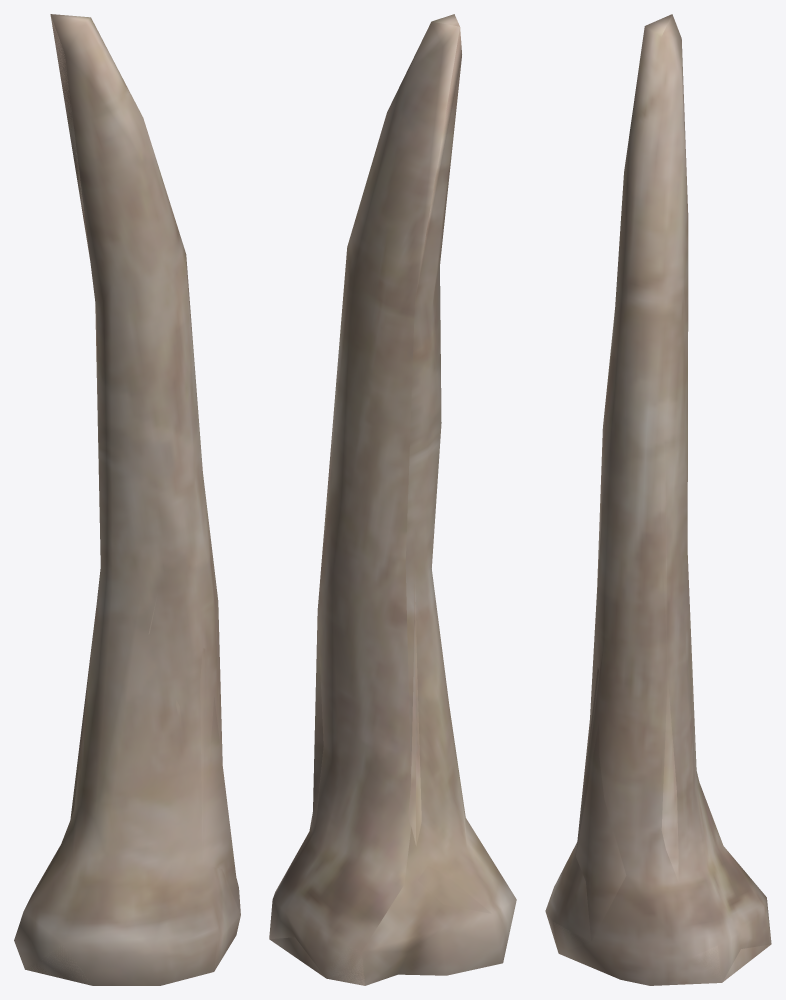
File: Stone_Thorn1.FBX
3 views of the same model, side by side, from view 1: azimuth 30°, elevation 25°; view 2: azimuth 150°, elevation 25°; view 3: azimuth 270°, elevation 25° (orthographic). The views are drawn at different scales.
Parts seen in each view (by area): view 1: Stone_Thorn1, Stone_Thorn1_Lod; view 2: Stone_Thorn1, Stone_Thorn1_Lod; view 3: Stone_Thorn1, Stone_Thorn1_Lod.
Part boxes in pixels (x1,y1,x2,y2): Stone_Thorn1: (14,14,240,985); Stone_Thorn1_Lod: (24,15,240,983); Stone_Thorn1: (269,14,516,985); Stone_Thorn1_Lod: (269,27,491,985); Stone_Thorn1: (545,14,771,985); Stone_Thorn1_Lod: (553,312,770,982).
Size of the model in its own units: 0.1539 by 0.6714 by 0.1611.
